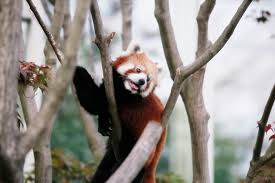redPanda: (69, 44, 171, 178)
